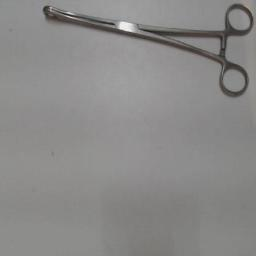Sponge Forceps: (36, 0, 256, 104)
